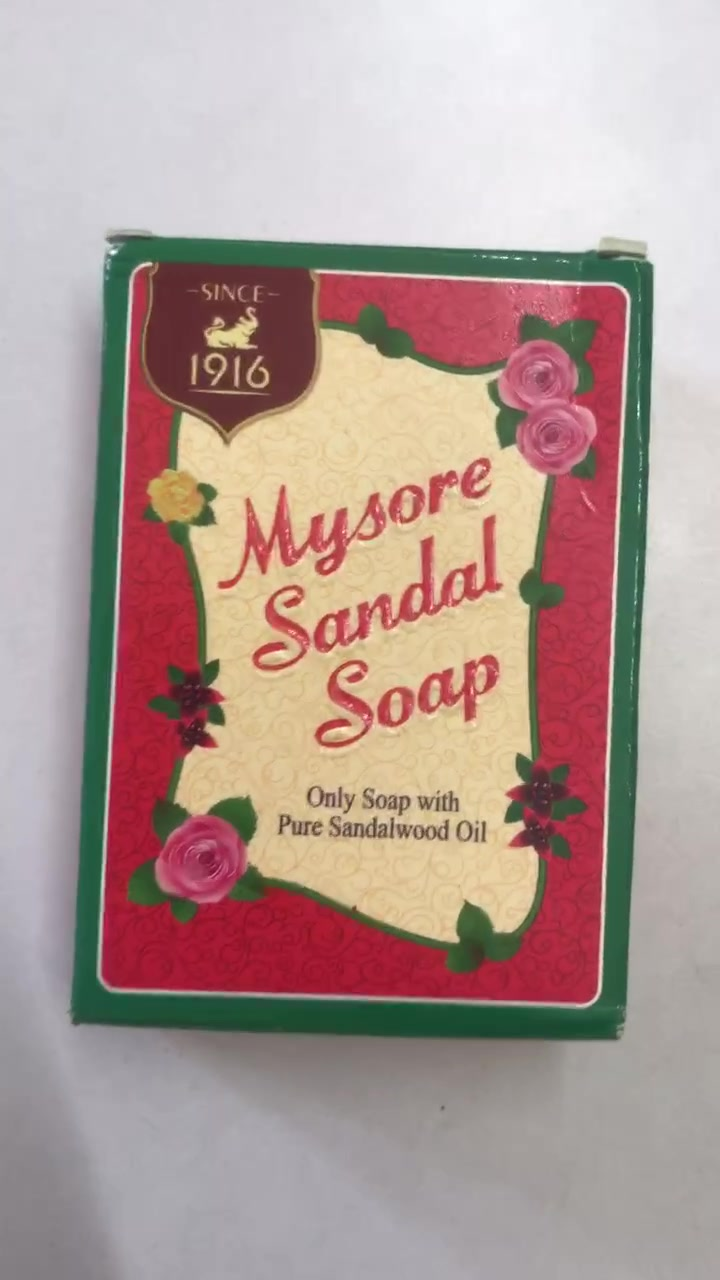mysore sandal soap: (66, 234, 658, 1042)
